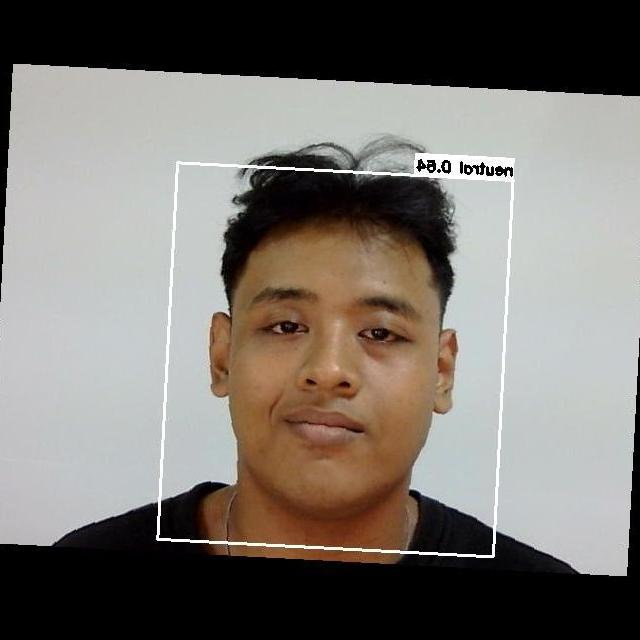Happy: (228, 262, 427, 479)
